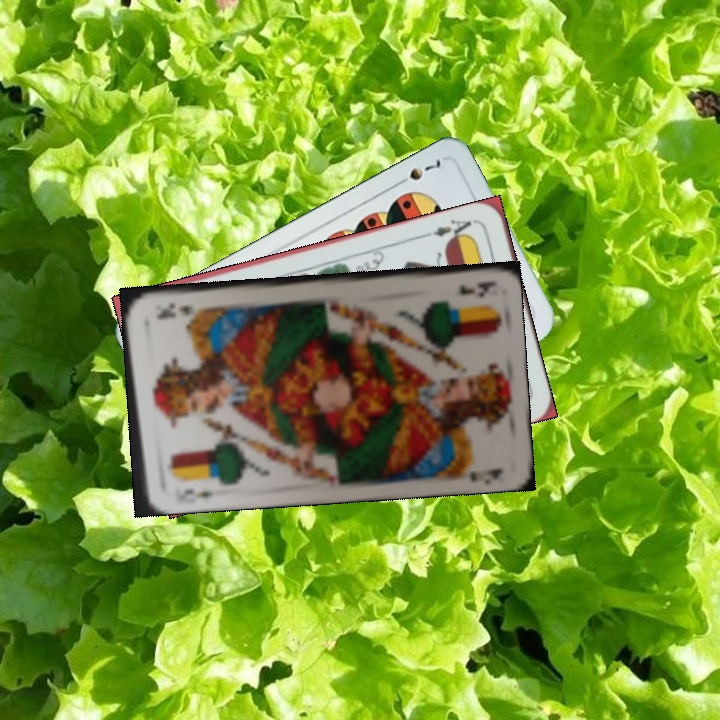EA: (421, 215, 479, 244)
EK: (455, 277, 494, 298), (171, 483, 218, 500)
S7: (391, 155, 444, 189)
